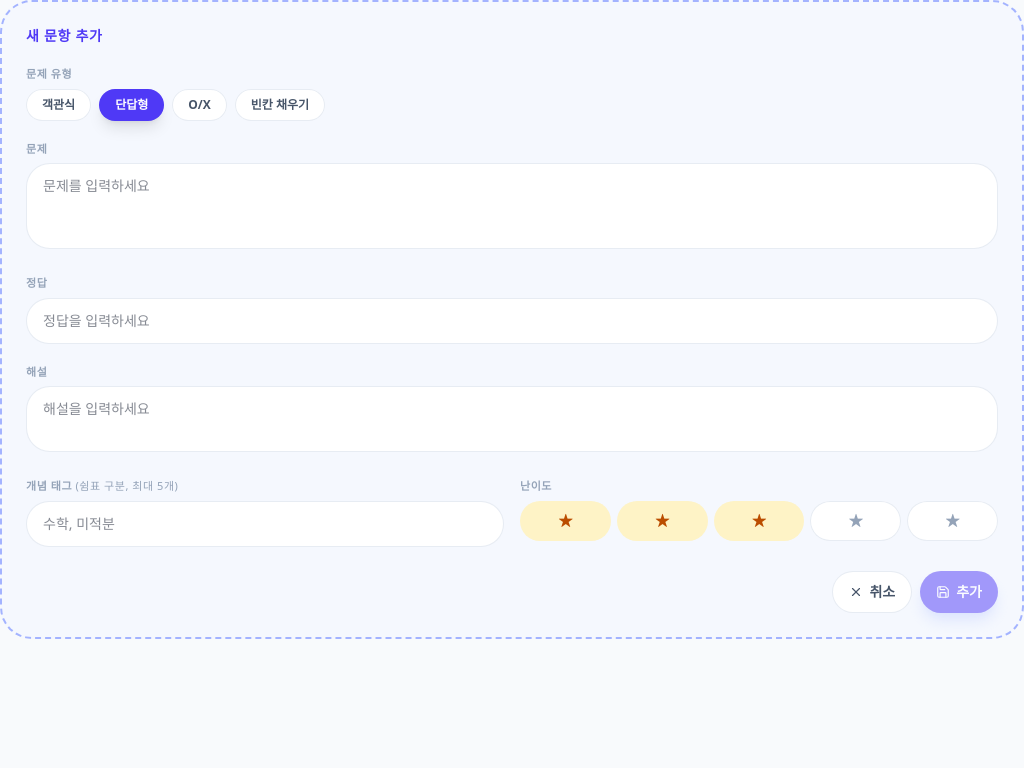
it: QuizItemCreateForm › shows MCQ options when 객관식 is selected
The image size is (1024, 768).
Click the button "객관식".
click(59, 104)  # box [26,88,91,120]
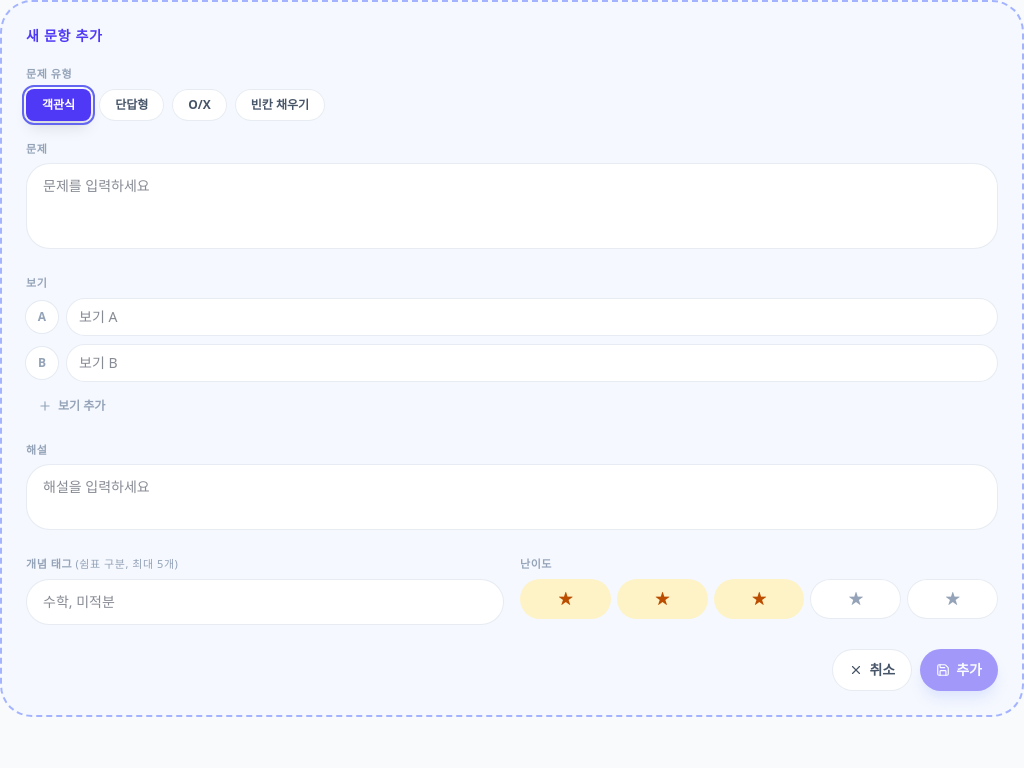
expect the field with placeholder "보기 A" is shown: met, box [66,298,998,336]
expect the field with placeholder "보기 B" is shown: met, box [66,344,998,382]
